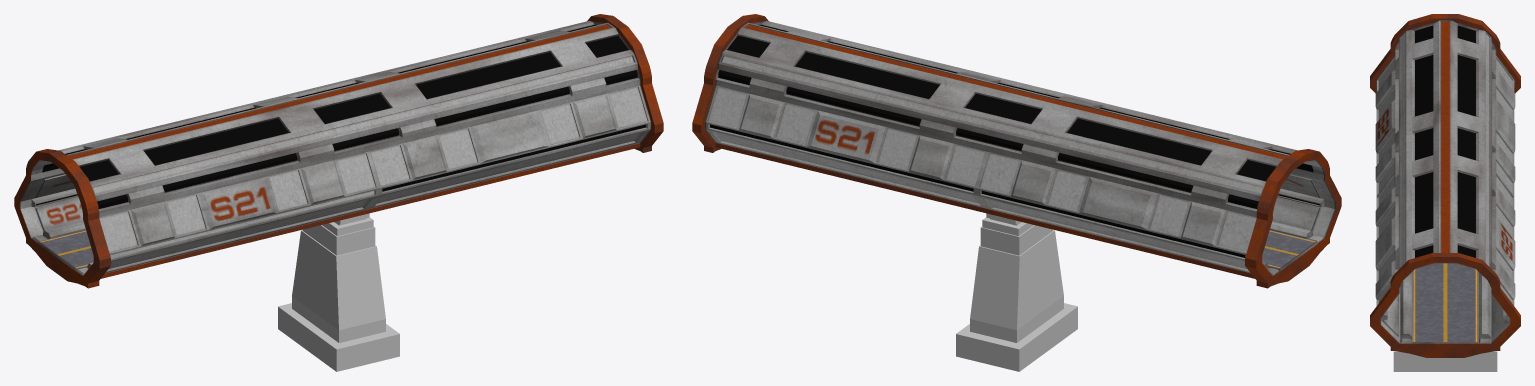
File: SciFiBridge.obj
3 renders of one model, left to right at view 1: azimuth 30°, elevation 25°; view 2: azimuth 150°, elevation 25°; view 3: azimuth 270°, elevation 25°, orthographic. The views are drawn at different scales.
Visible parts, largest first — view 1: Platform_4k, Pillar_4k; view 2: Platform_4k, Pillar_4k; view 3: Platform_4k, Pillar_4k.
Boxes of the visible parts, x1,y1,x2,y2 form: Platform_4k: (14, 14, 663, 288); Pillar_4k: (278, 213, 399, 371); Platform_4k: (692, 14, 1341, 288); Pillar_4k: (956, 213, 1077, 371); Platform_4k: (1370, 14, 1520, 357); Pillar_4k: (1393, 351, 1497, 371).
Size of the model in its own units: 63.68 by 27.24 by 16.71.
